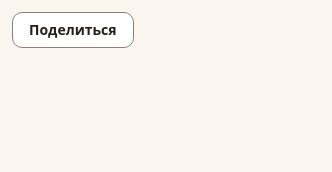
Scenario: ShareButton › falls back to copying the link
What coordinates should you click on to do the following:
click the button "Поделиться"
I would click on:
 (73, 30)
Its box is left=12, top=12, right=134, bottom=48.
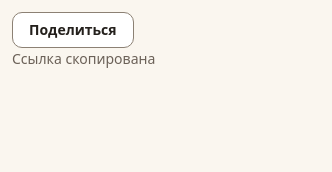
Check: the message reads "Ссылка скопирована", box left=12, top=49, right=155, bottom=68
